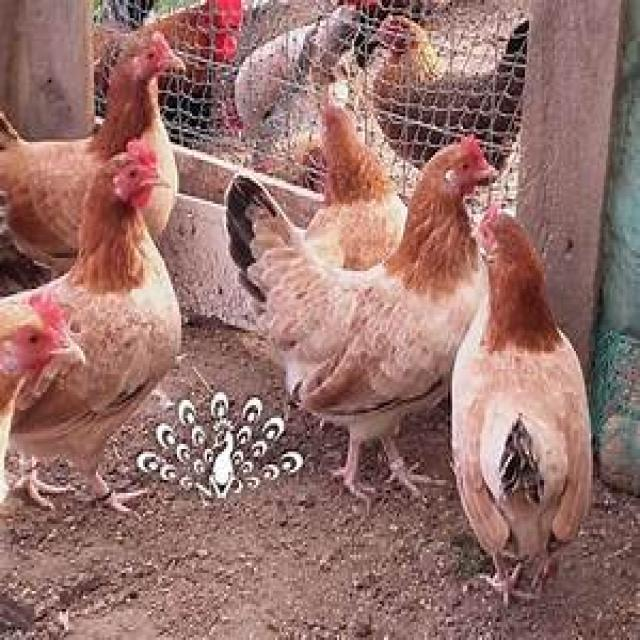hen: (251, 138, 494, 498), (11, 139, 180, 477), (451, 210, 591, 601), (0, 32, 184, 270)
